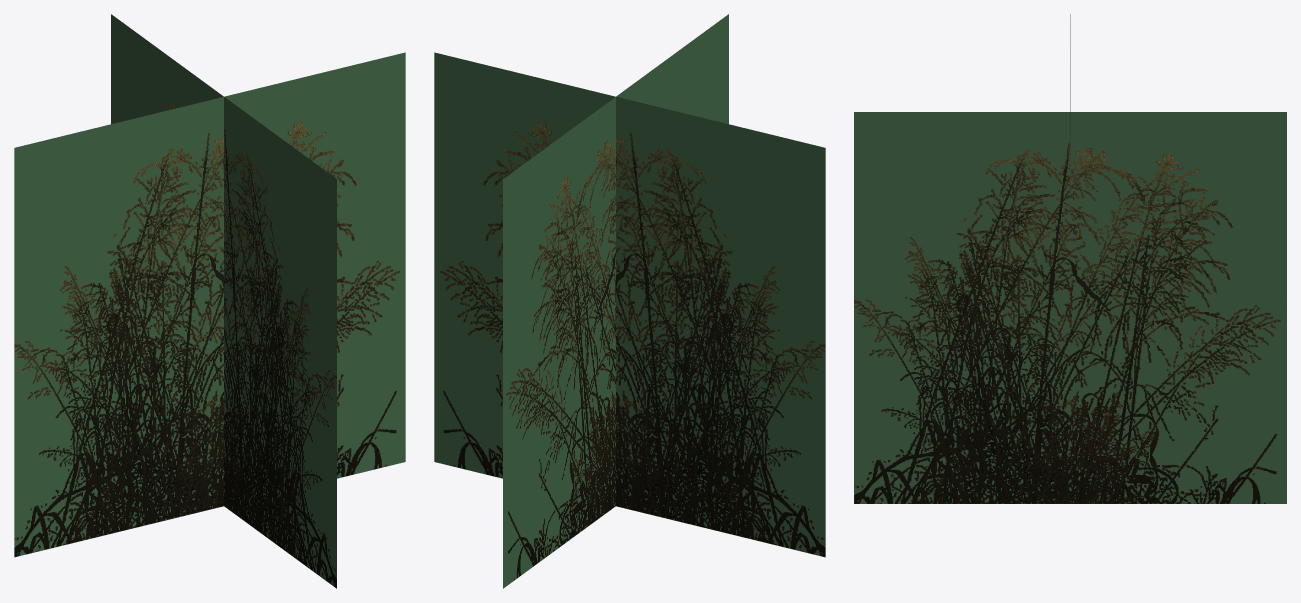
The model's file is grass01.fbx.
3 views of the same model, side by side, from view 1: azimuth 30°, elevation 25°; view 2: azimuth 150°, elevation 25°; view 3: azimuth 270°, elevation 25° (orthographic). The views are drawn at different scales.
Visible parts, largest first — view 1: Plane; view 2: Plane; view 3: Plane.
Boxes of the visible parts, box(x1,y1,x2,y2) form: Plane: box(14, 14, 405, 588); Plane: box(434, 14, 825, 588); Plane: box(854, 14, 1286, 503).
Size of the model in its own units: 547 by 547 by 547.
